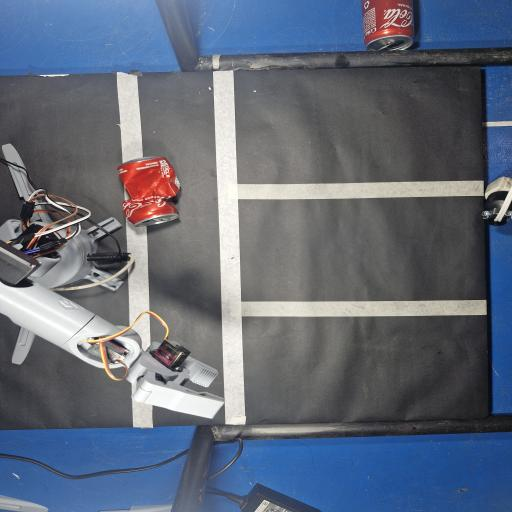lata_defectuoso: (118, 157, 180, 227)
